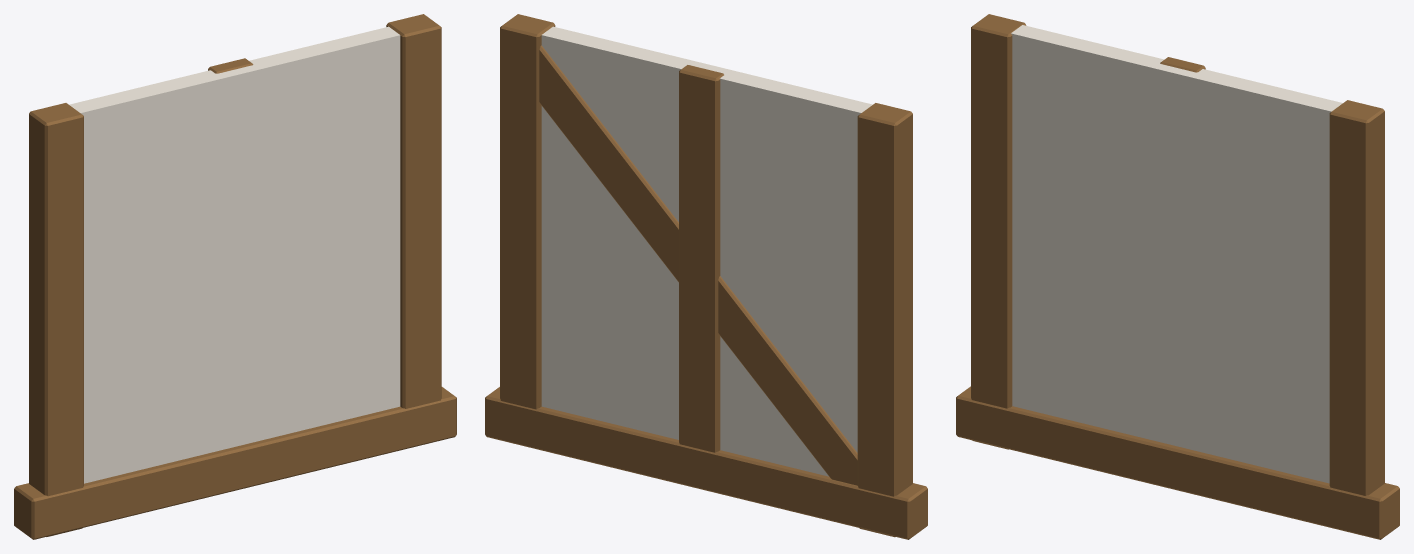
Rendered from WallVDiagL.fbx.
The picture shows the model from 3 angles, left to right: view 1: azimuth 30°, elevation 25°; view 2: azimuth 150°, elevation 25°; view 3: azimuth 330°, elevation 25°; orthographic projection.
Parts seen in each view (by area): view 1: Cube.086, Cube.102, Cube.105, Cube.101; view 2: Cube.086, Cube.102, Cube.105, Cube.100, Cube.101, Cube.097; view 3: Cube.086, Cube.101, Cube.105, Cube.102.
Boxes of the visible parts, x1,y1,x2,y2 form: Cube.086: (69,26,400,483); Cube.102: (29,103,83,536); Cube.105: (14,387,456,539); Cube.101: (386,14,441,408); Cube.086: (541,26,872,476); Cube.102: (857,103,912,537); Cube.105: (485,387,927,539); Cube.100: (539,45,857,485); Cube.101: (500,14,555,409); Cube.097: (679,65,723,452); Cube.086: (1011,25,1342,483); Cube.101: (1329,100,1384,495); Cube.105: (956,386,1399,539); Cube.102: (971,14,1026,449).
Size of the model in its own units: 216 by 202 by 17.27.
